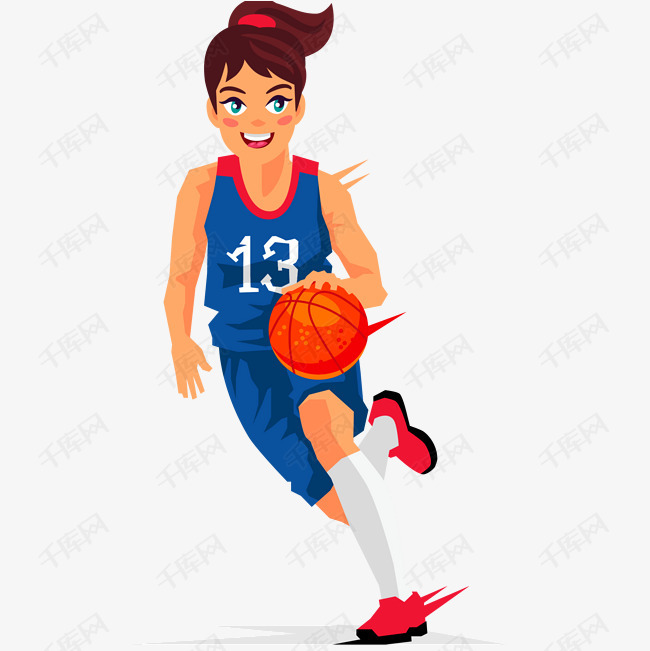ball: (268, 280, 368, 382)
